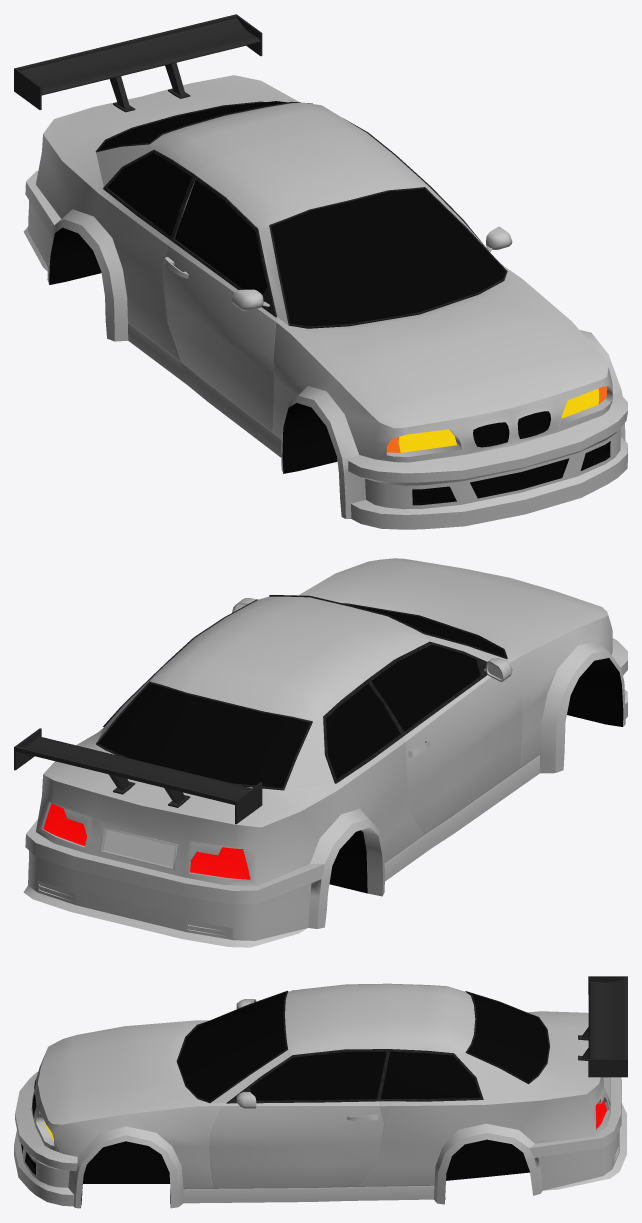
File: BMW.glb
The picture shows the model from 3 angles, top to bottom: view 1: azimuth 30°, elevation 25°; view 2: azimuth 150°, elevation 25°; view 3: azimuth 270°, elevation 25°; orthographic projection. The views are drawn at different scales.
Parts seen in each view (by area): view 1: MainCar; view 2: MainCar; view 3: MainCar.
Part boxes in pixels (x1,y1,x2,y2): MainCar: (14,14,627,529); MainCar: (14,558,627,947); MainCar: (14,976,627,1208).
Size of the model in its own units: 4.24 by 2.81 by 10.39.
Materials: 12 (4 with a texture image).
